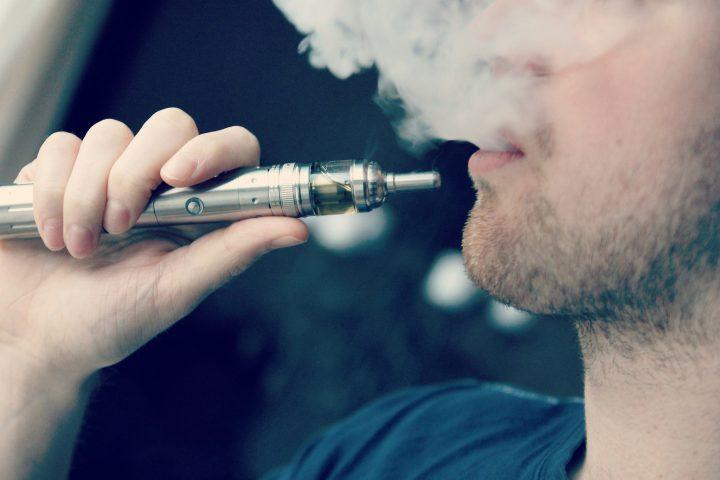Smoke: (274, 0, 576, 146)
Vape: (0, 161, 441, 234)
